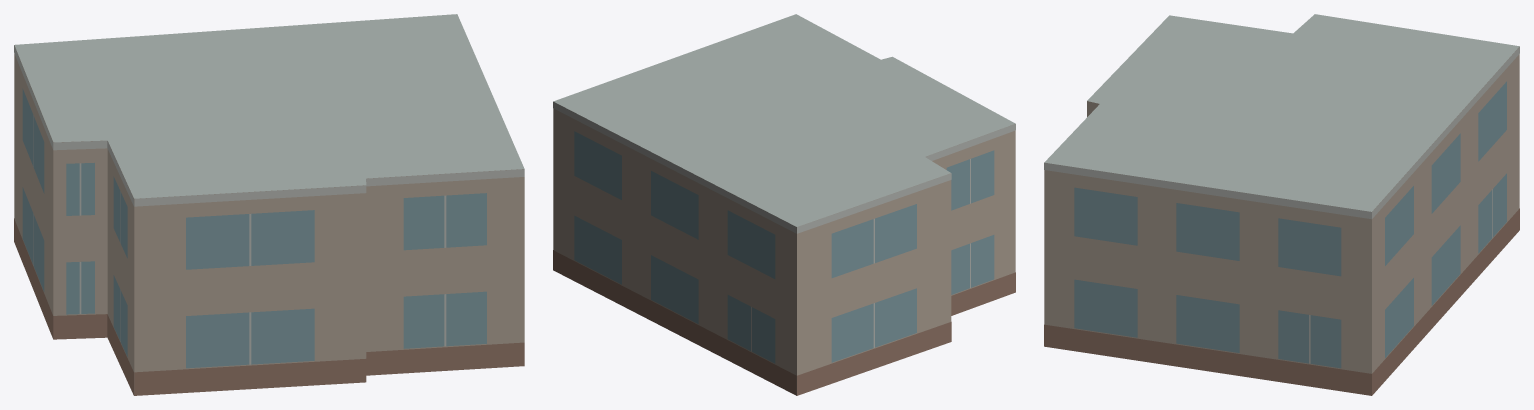
File: survey-upis-32916263.glb
3 renders of one model, left to right at view 1: azimuth 30°, elevation 25°; view 2: azimuth 150°, elevation 25°; view 3: azimuth 270°, elevation 25°, orthographic. The views are drawn at different scales.
Visible parts, largest first — view 1: survey-upis-32916263.tmp; view 2: survey-upis-32916263.tmp; view 3: survey-upis-32916263.tmp.
Part boxes in pixels (box(x1,y1,x2,y2)): survey-upis-32916263.tmp: box(14, 14, 524, 395); survey-upis-32916263.tmp: box(553, 14, 1015, 395); survey-upis-32916263.tmp: box(1044, 14, 1519, 395).
Size of the model in its own units: 14.08 by 6.1 by 14.3.
